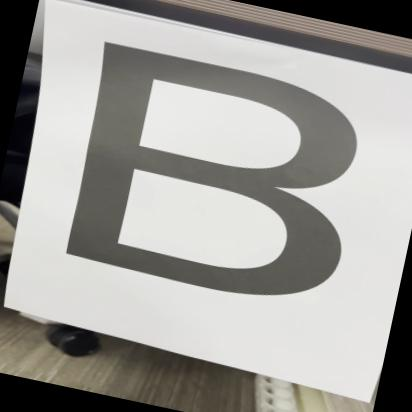seat: (39, 26, 401, 330)
